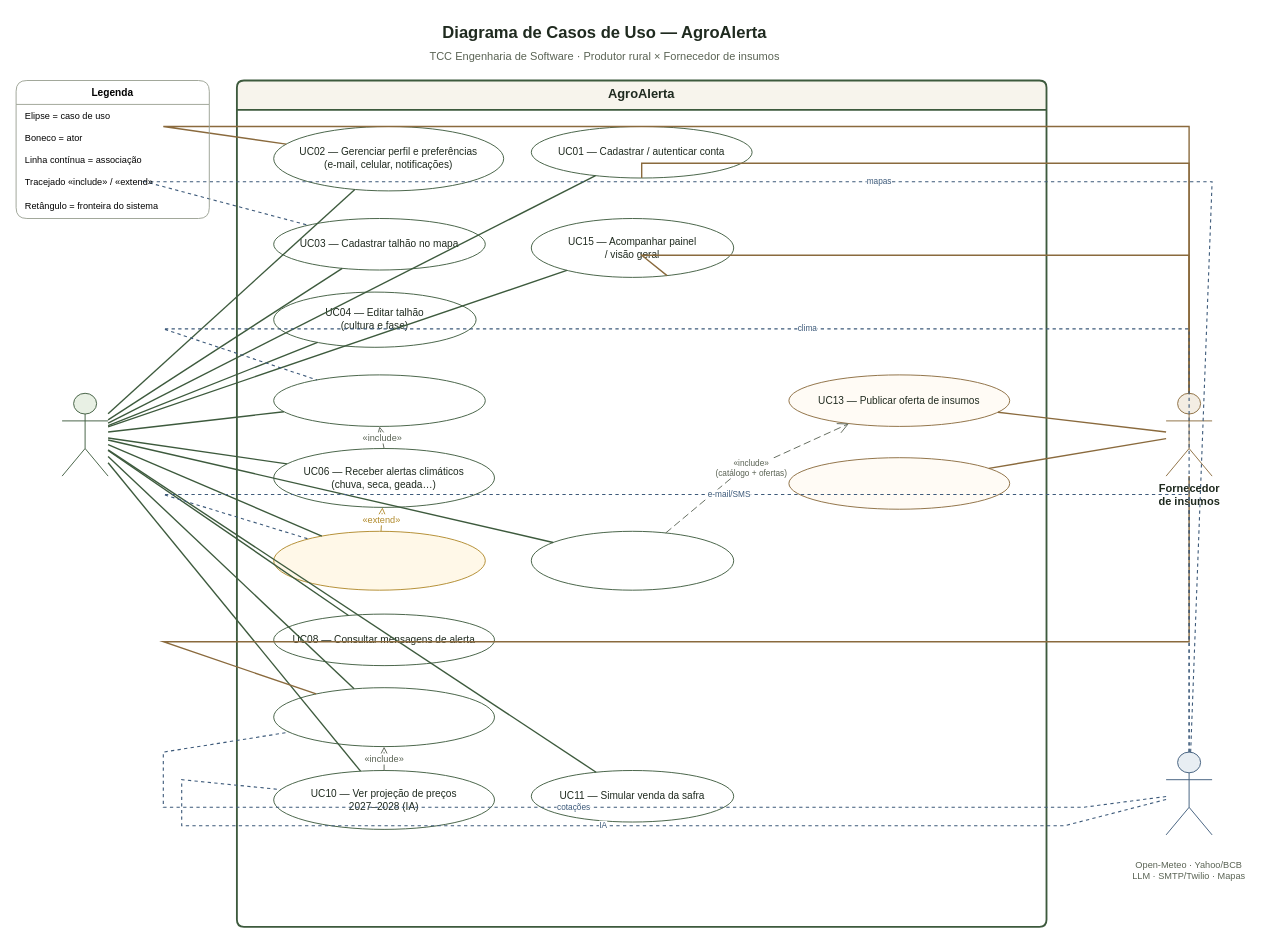
This 1283x943 diagram has some shape labels left out. Here are the shapes that lost their labels. From the top down, the centre of each, then its label:
At (379,400): "UC05 — Consultar clima do talhão".
At (84,434): "Produtor rural".
At (899,483): "UC14 — Gerenciar minhas ofertas".
At (379,560): "UC07 — Receber alerta por e-mail e SMS".
At (632,560): "UC12 — Ver insumos sugeridos nos alertas".
At (383,717): "UC09 — Consultar mercado (histórico mensal 2010–2026)".
At (1188,793): "Sistemas externos".
